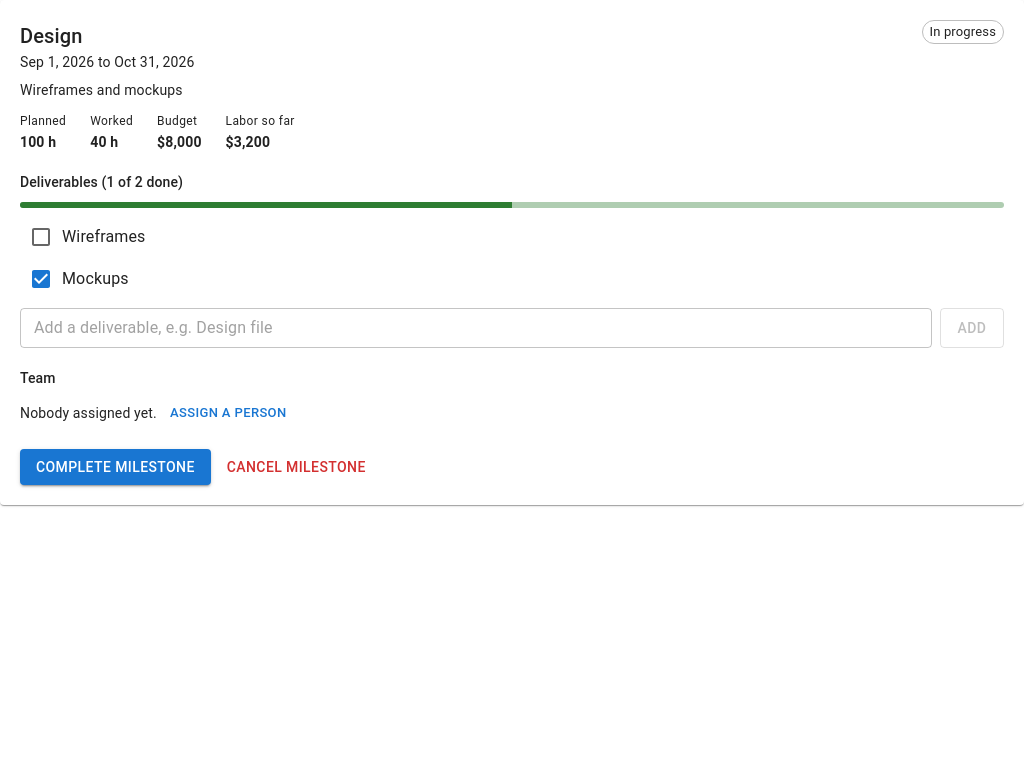
Test: MilestoneCard: start, assign, complete, cancel › assign a person › shows the 409 overlap message in the dialog and keeps it open for another try
The width and height of the screenshot is (1024, 768).
Step 1. Click the button "Assign a person" → (228, 413), box [165,398,292,429]
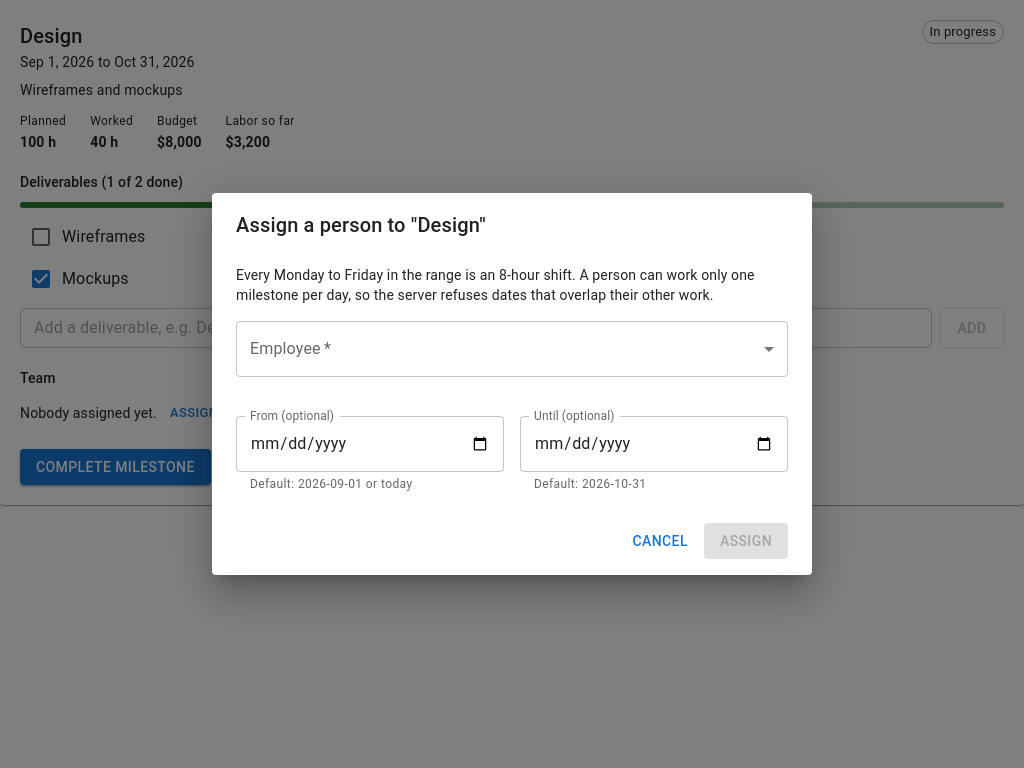
Step 2. Click the dropdown named "Employee" → (512, 349), box [236,321,788,377]
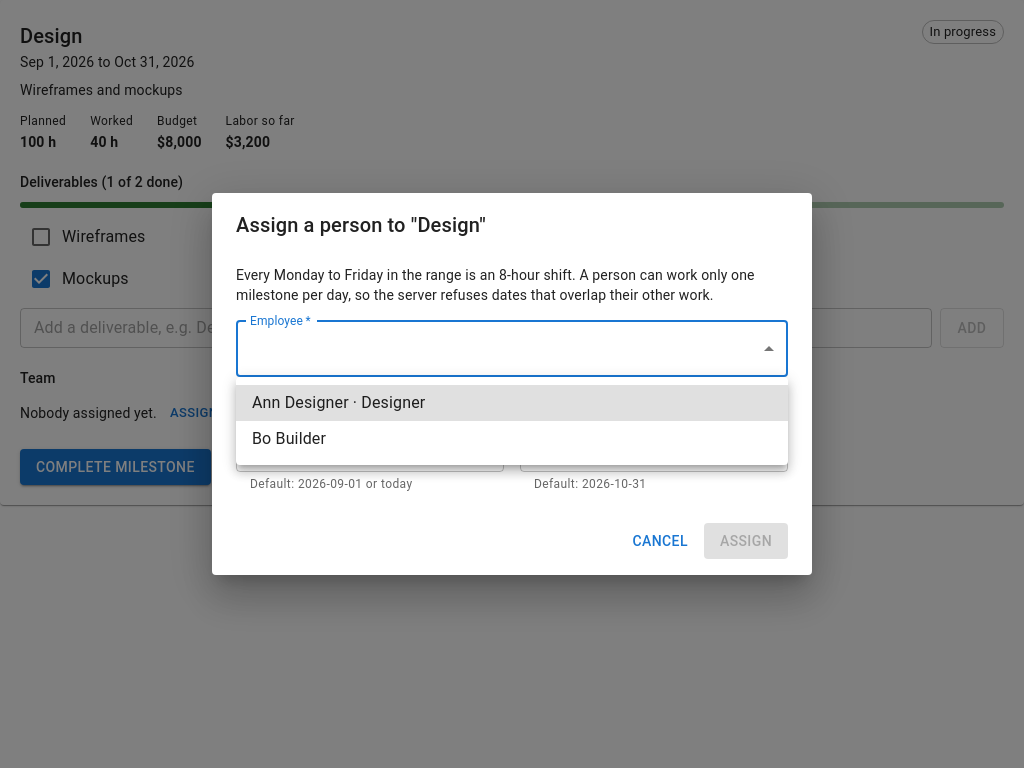
Step 3. Click the option "Bo Builder" → (289, 438), box [252,429,326,448]
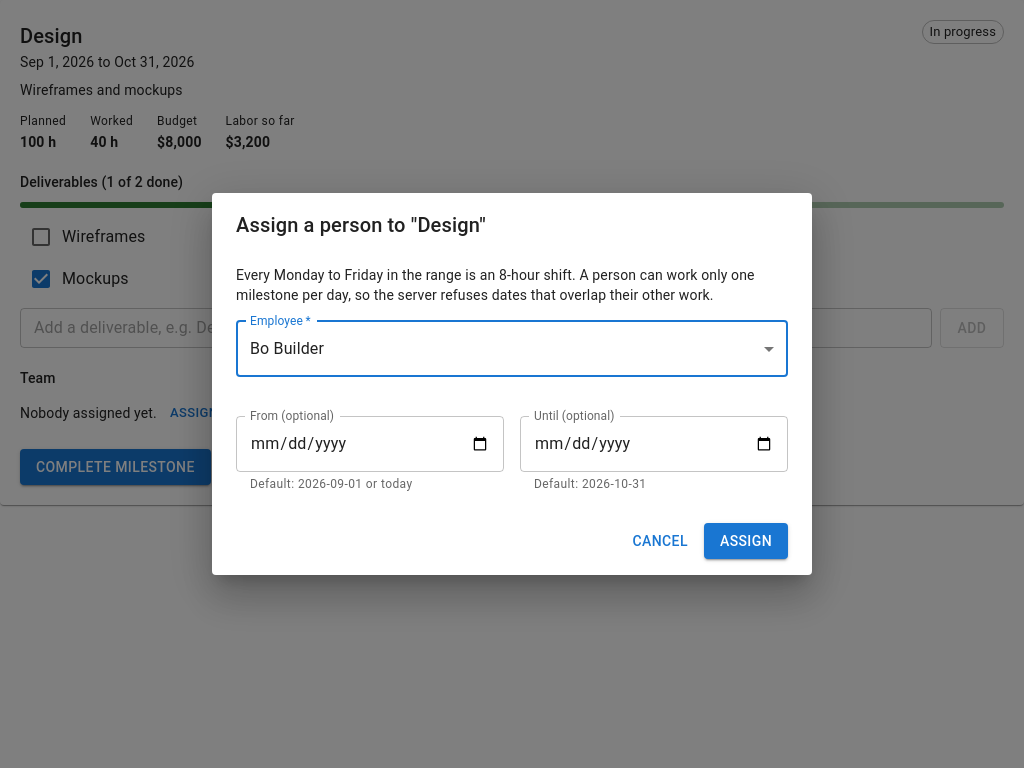
Step 4. Click the button "Assign" → (746, 541), box [704,523,788,559]
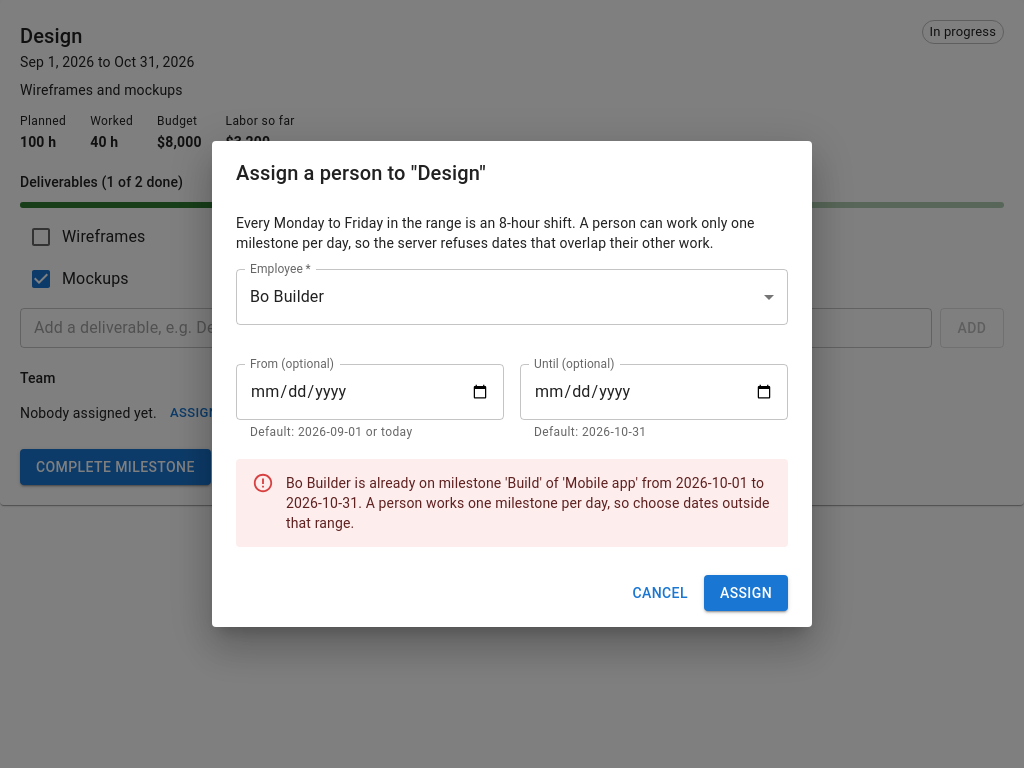
Result: the dialog is shown at [212,141,812,627]
Result: the text "Bo Builder is already on milestone 'Build' of 'Mobile app' from 2026-10-01 to 2026-10-31. A person works one milestone p" is shown at [286,475,770,531]
Step 5. Click the button "Assign" → (746, 593), box [704,575,788,611]
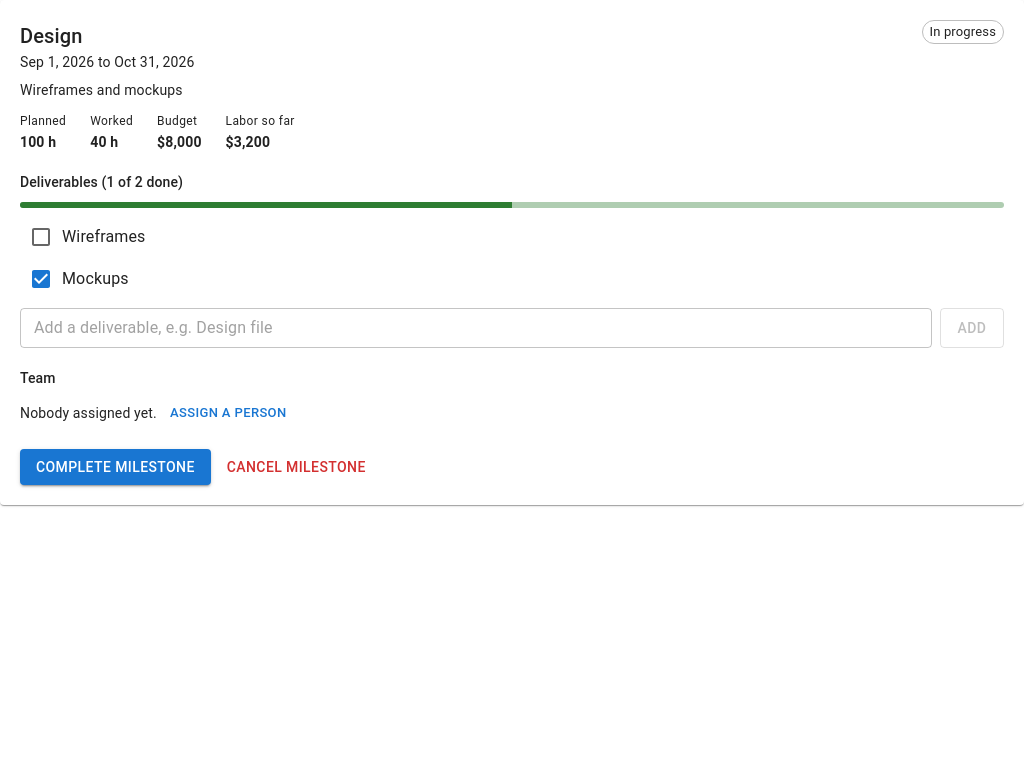
Result: the dialog is gone
